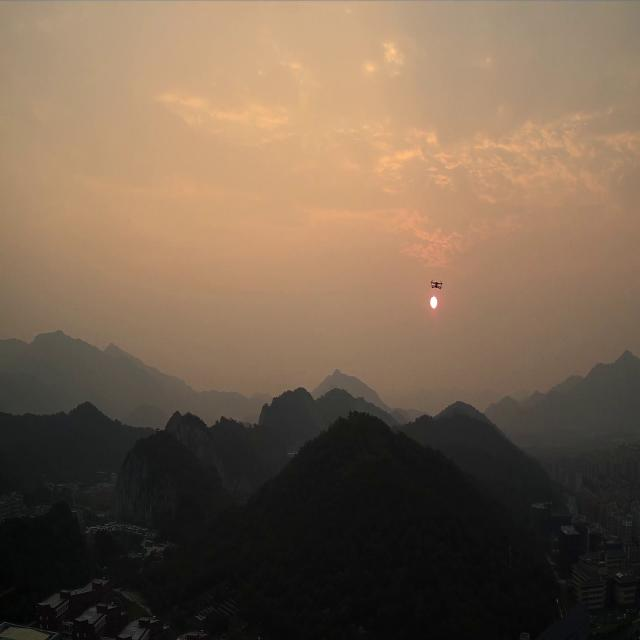drone: (430, 279, 442, 289)
